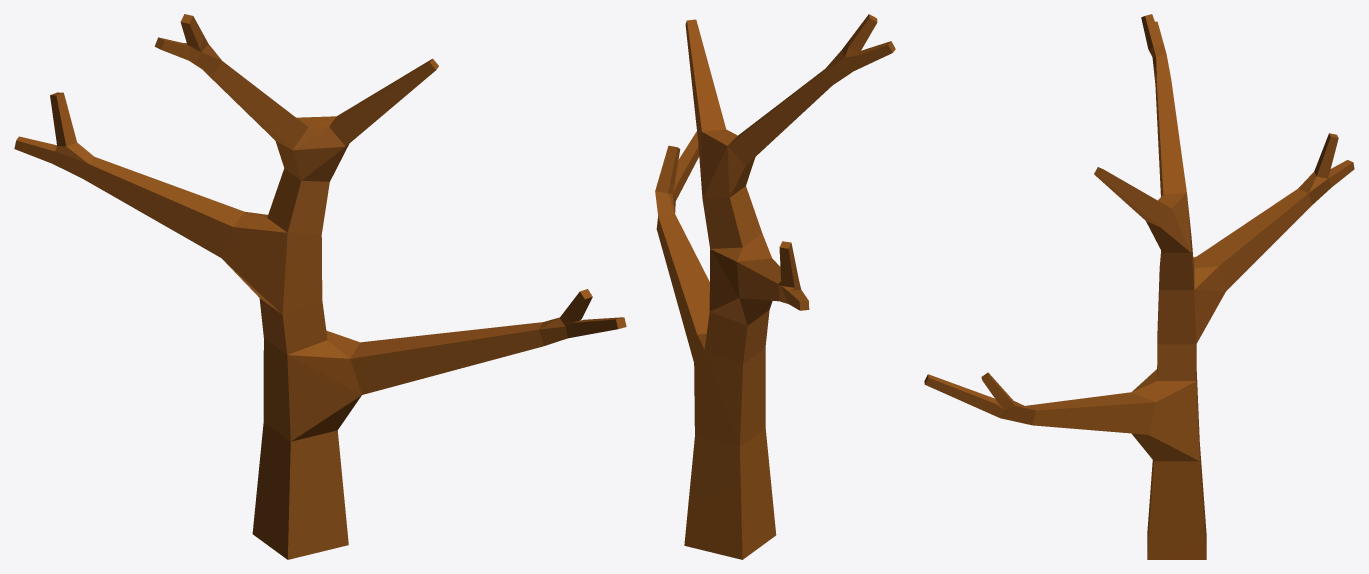
File: Tree_28.fbx
The picture shows the model from 3 angles, left to right: view 1: azimuth 30°, elevation 25°; view 2: azimuth 150°, elevation 25°; view 3: azimuth 270°, elevation 25°; orthographic projection. The views are drawn at different scales.
Parts seen in each view (by area): view 1: Tree_28; view 2: Tree_28; view 3: Tree_28.
Boxes of the visible parts, left/top/right/bottom form: Tree_28: left=14, top=14, right=626, bottom=559; Tree_28: left=655, top=14, right=895, bottom=559; Tree_28: left=924, top=14, right=1354, bottom=559.
Size of the model in its own units: 991 by 1489 by 1211.
